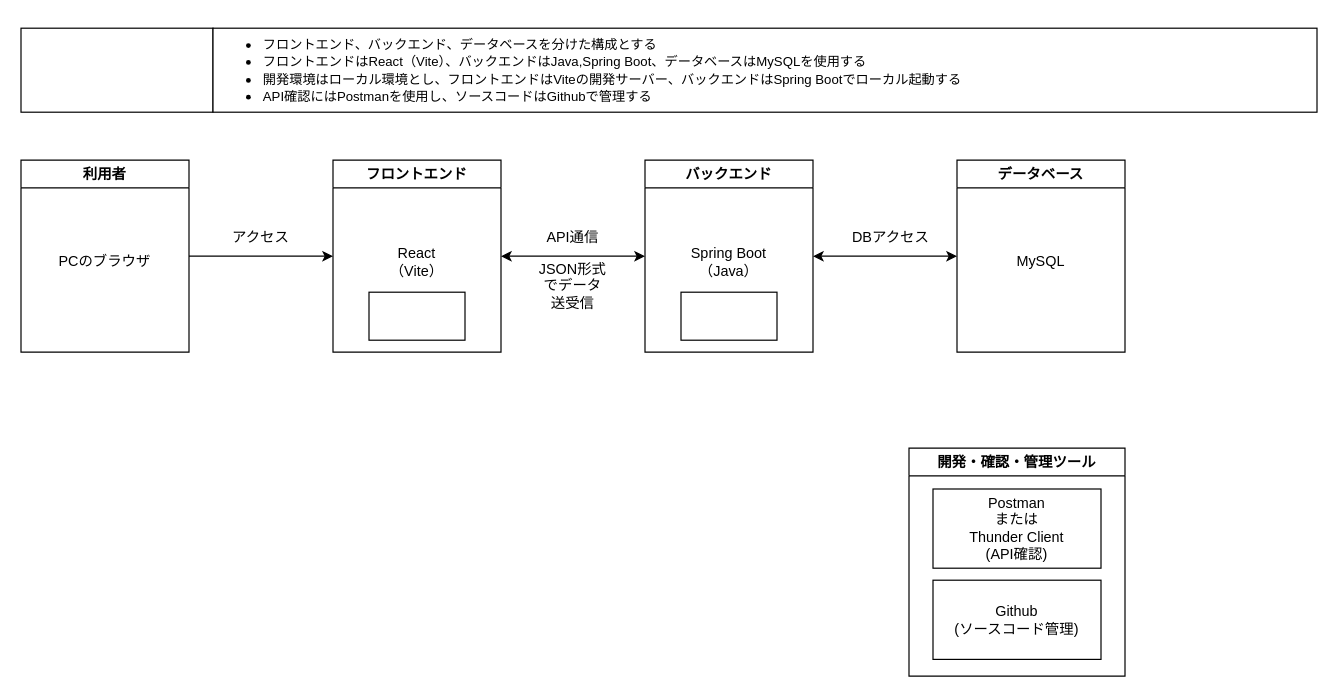
Some shapes in this 1338 by 697 pixel diagram are drawn without their labels. The shapes that lost their labels are listed below. From the top down, each one's centre as x and y in pixels, then its label:
At (116,69): "システム構成図".
At (416,315): "開発環境 VS Code".
At (728,315): "開発環境 IDE".
